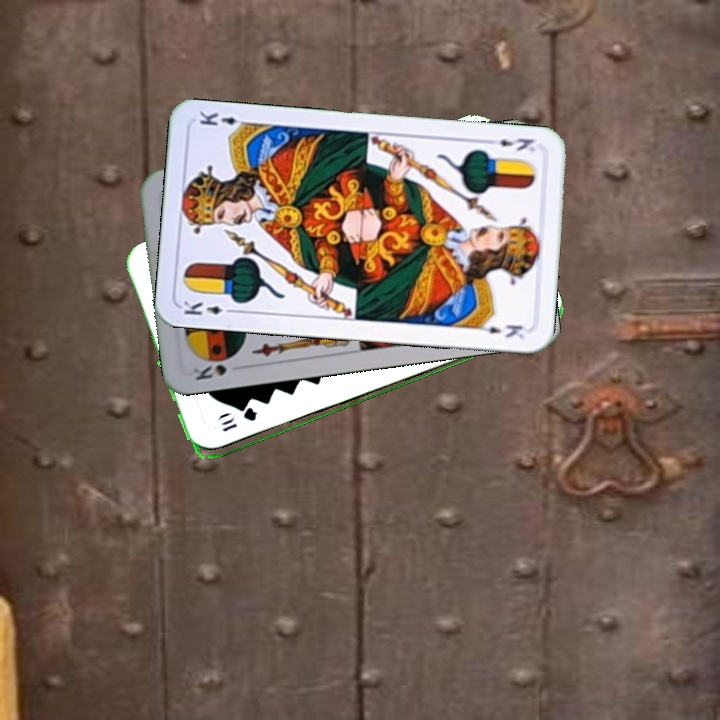EK: (179, 297, 238, 318), (483, 134, 538, 155)
G10: (218, 406, 260, 435)
SK: (189, 352, 238, 383)
